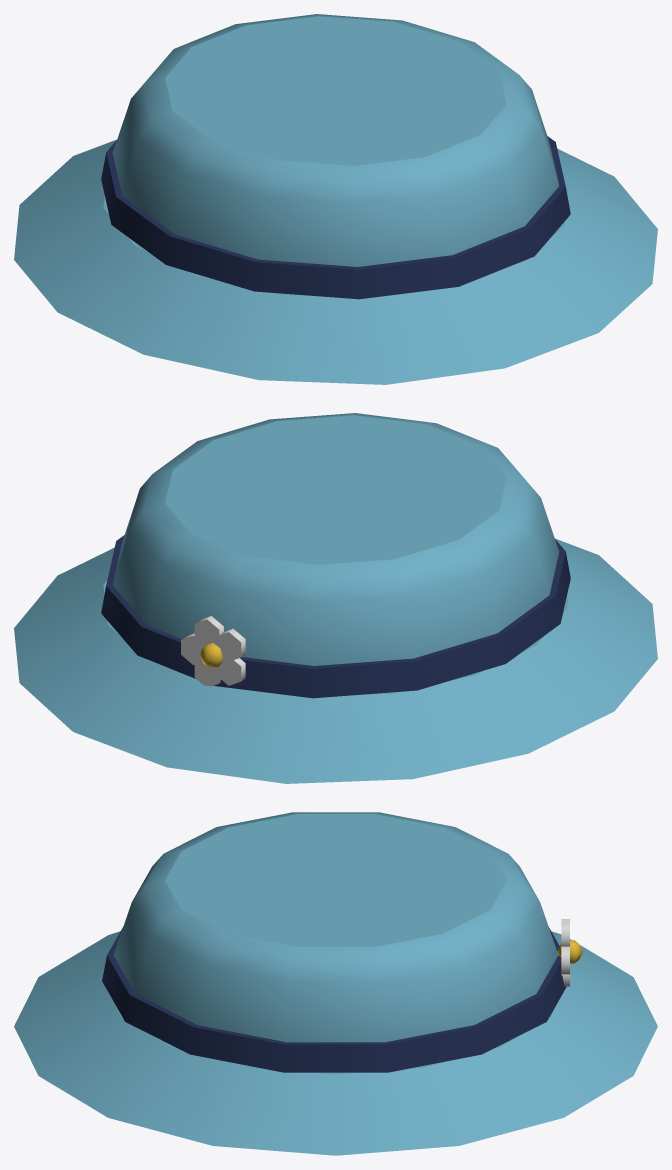
The model's file is hat-bucket_hat.glb.
3 views of the same model, one above another, from view 1: azimuth 30°, elevation 25°; view 2: azimuth 150°, elevation 25°; view 3: azimuth 270°, elevation 25° (orthographic). The views are drawn at different scales.
Parts seen in each view (by area): view 1: Hat; view 2: Hat; view 3: Hat.
Boxes of the visible parts, bbox=[...] form: Hat: bbox=[14, 14, 657, 384]; Hat: bbox=[14, 413, 657, 783]; Hat: bbox=[14, 812, 657, 1155].
Bounding box in the file's own units: 0.855 × 0.225 × 0.9.
